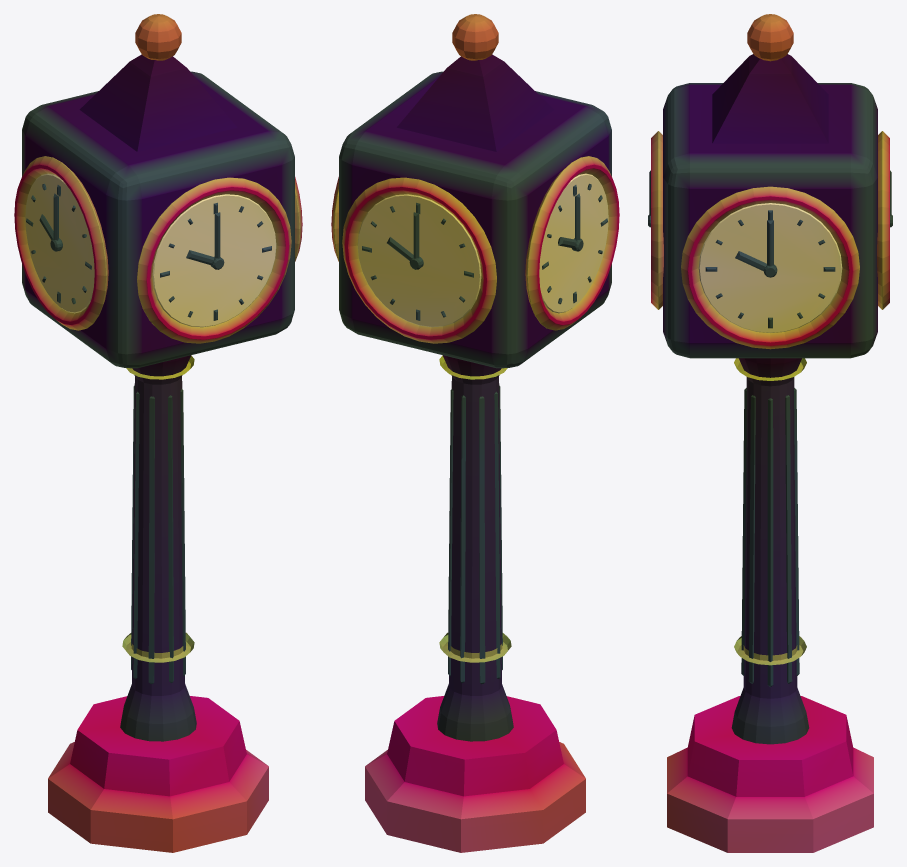
The model's file is GS_PedestalClock.glb.
3 renders of one model, left to right at view 1: azimuth 30°, elevation 25°; view 2: azimuth 150°, elevation 25°; view 3: azimuth 270°, elevation 25°, orthographic.
Visible parts, largest first — view 1: GS_PedestalClock; view 2: GS_PedestalClock; view 3: GS_PedestalClock.
Boxes of the visible parts, box(x1,y1,x2,y2) form: GS_PedestalClock: box(14, 14, 302, 852); GS_PedestalClock: box(331, 14, 619, 852); GS_PedestalClock: box(648, 14, 892, 852).
Bounding box in the file's own units: 1.64 × 5.86 × 1.64.
